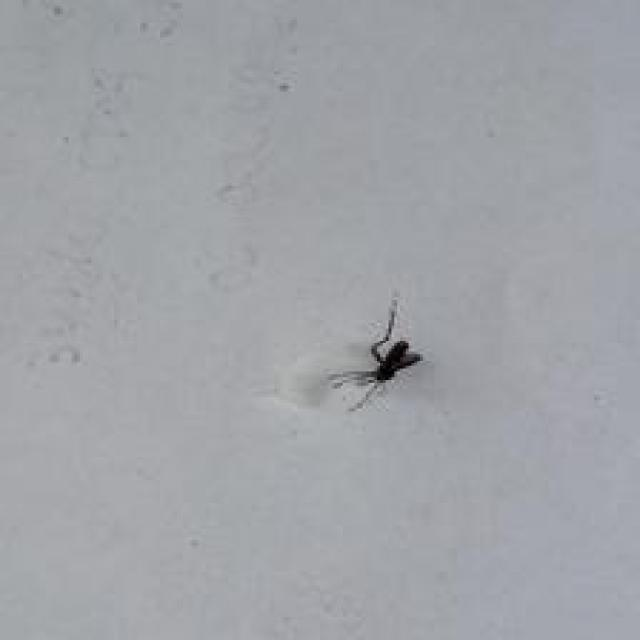Aedes albopictus: (327, 297, 424, 412)
